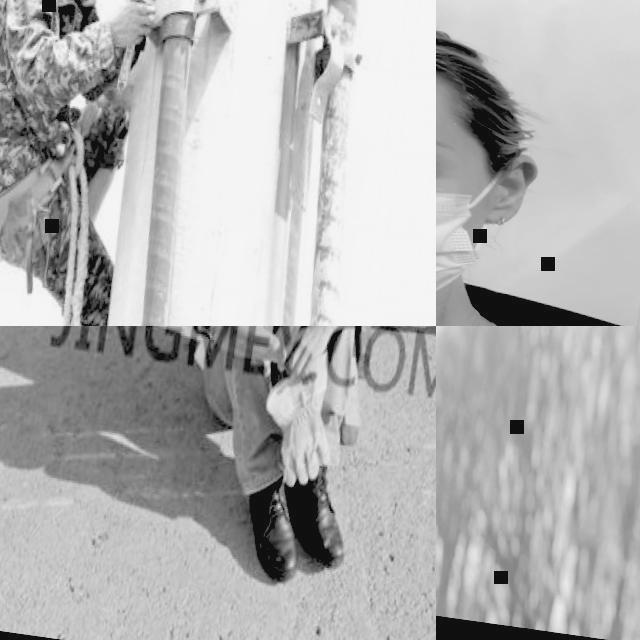mask: (436, 113, 502, 323)
no_helmet: (436, 0, 514, 122)
no_vest: (0, 0, 102, 189)
person: (156, 326, 415, 592), (436, 0, 640, 326), (0, 0, 176, 326)
vest: (194, 326, 340, 386)
